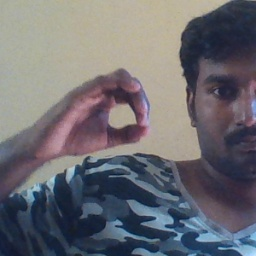O: (30, 64, 153, 161)
